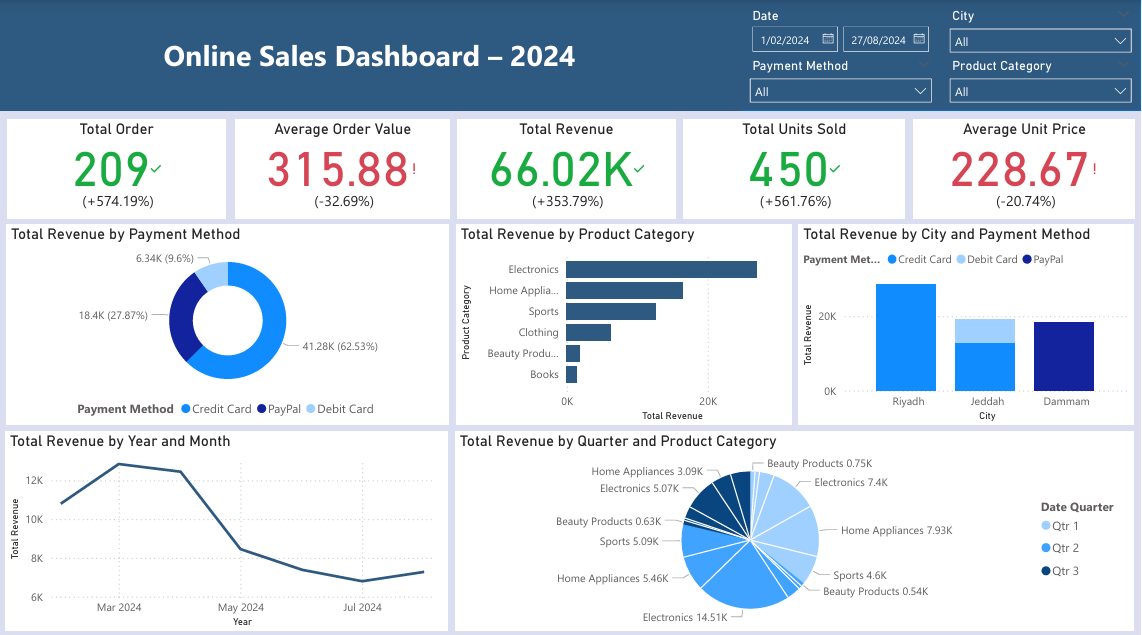

The page's visual inventory and layout, read from the dashboard file:
{"tool":"powerbi","page":{"name":"Page 1","canvas":[1280,720],"ordinal":0},"visuals":[{"type":"shape","box":[640,0,640,128],"z":0},{"type":"card","fields":{"Values":["Sum(Online Sales Data.Total Revenue)"]},"box":[640,288,240,96],"z":1000},{"type":"lineChart","fields":{"Y":["Sum(Online Sales Data.Total Revenue)"],"Category":["Online Sales Data.Date.Variation.Date Hierarchy.Year","Online Sales Data.Date.Variation.Date Hierarchy.Month"]},"box":[8,488,496,224],"z":2000},{"type":"barChart","fields":{"Category":["Online Sales Data.Product Category"],"Y":["Sum(Online Sales Data.Total Revenue)"]},"box":[513,256.4,376,225],"z":3000},{"type":"donutChart","title":"Total Revenue by Payment Method","fields":{"Category":["Online Sales Data.Payment Method"],"Y":["Sum(Online Sales Data.Total Revenue)"]},"box":[9,255.8,496,225],"z":4000},{"type":"columnChart","fields":{"Category":["Online Sales Data.Region"],"Series":["Online Sales Data.Payment Method"],"Y":["Sum(Online Sales Data.Total Revenue)"]},"box":[897,256.4,376,225],"z":5000},{"type":"pieChart","fields":{"Category":["Online Sales Data.Date.Variation.Date Hierarchy.Quarter"],"Series":["Online Sales Data.Product Category"],"Y":["Sum(Online Sales Data.Total Revenue)"]},"box":[512,488,760,224],"z":7000},{"type":"kpi","title":"Total Revenue","fields":{"Indicator":["Sum(Online Sales Data.Total Revenue)"],"Goal":["Online Sales Data.Revenue Last Month"],"TrendLine":["Online Sales Data.Date.Variation.Date Hierarchy.Year"]},"box":[513.7,137.8,245,112],"z":8000},{"type":"kpi","title":"Total Order","fields":{"Goal":["Online Sales Data.Order Last Month"],"TrendLine":["Online Sales Data.Date.Variation.Date Hierarchy.Year"],"Indicator":["CountNonNull(Online Sales Data.Transaction ID)"]},"box":[9.7,137.8,245,112],"z":9000},{"type":"kpi","title":"Average Order Value","fields":{"TrendLine":["Online Sales Data.Date.Variation.Date Hierarchy.Year"],"Indicator":["Online Sales Data.Average Order Value"],"Goal":["Online Sales Data.Average Order Value Last Month"]},"box":[265.7,137.8,240,112],"z":10000},{"type":"kpi","title":"Total Units Sold","fields":{"TrendLine":["Online Sales Data.Date.Variation.Date Hierarchy.Year"],"Indicator":["Sum(Online Sales Data.Units Sold)"],"Goal":["Online Sales Data.Total Quanity Sold Last Month"]},"box":[768.2,137.8,248,112],"z":11000},{"type":"textbox","box":[840,8,112,48],"z":11500},{"type":"kpi","title":"Average Unit Price","fields":{"TrendLine":["Online Sales Data.Date.Variation.Date Hierarchy.Year"],"Indicator":["Online Sales Data.Average Unit Price"],"Goal":["Online Sales Data.Average Unit Price Last Month"]},"box":[1025.7,137.8,248,112],"z":12000},{"type":"slicer","fields":{"Values":["Online Sales Data.Product Category"]},"box":[1056,64,224,64],"z":13000},{"type":"slicer","fields":{"Values":["Online Sales Data.Region"]},"box":[1056,8,224,64],"z":14000},{"type":"slicer","fields":{"Values":["Online Sales Data.Payment Method"]},"box":[832,64,224,64],"z":15000},{"type":"shape","box":[0,0,832,128],"z":16000},{"type":"slicer","fields":{"Values":["Online Sales Data.Date"]},"box":[832,24,224,64],"z":16500}]}

Visuals, with their boxes in screenshot pixels (x1, y1, x2, y2), scaled from the page's 1280x720 canvas onto the 1142x635 screenshot:
shape: bbox(571, 0, 1141, 113)
card - Sum(Online Sales Data.Total Revenue): bbox(571, 254, 785, 339)
lineChart - Sum(Online Sales Data.Total Revenue) x Online Sales Data.Date.Variation.Date Hierarchy.Year: bbox(7, 430, 450, 628)
barChart - Online Sales Data.Product Category x Sum(Online Sales Data.Total Revenue): bbox(458, 226, 793, 425)
"Total Revenue by Payment Method" donutChart: bbox(8, 226, 451, 424)
columnChart - Online Sales Data.Region x Online Sales Data.Payment Method: bbox(800, 226, 1136, 425)
pieChart - Online Sales Data.Date.Variation.Date Hierarchy.Quarter x Online Sales Data.Product Category: bbox(457, 430, 1135, 628)
"Total Revenue" kpi: bbox(458, 122, 677, 220)
"Total Order" kpi: bbox(9, 122, 227, 220)
"Average Order Value" kpi: bbox(237, 122, 451, 220)
"Total Units Sold" kpi: bbox(685, 122, 907, 220)
textbox: bbox(749, 7, 849, 49)
"Average Unit Price" kpi: bbox(915, 122, 1136, 220)
slicer - Online Sales Data.Product Category: bbox(942, 56, 1141, 113)
slicer - Online Sales Data.Region: bbox(942, 7, 1141, 64)
slicer - Online Sales Data.Payment Method: bbox(742, 56, 942, 113)
shape: bbox(0, 0, 742, 113)
slicer - Online Sales Data.Date: bbox(742, 21, 942, 78)
